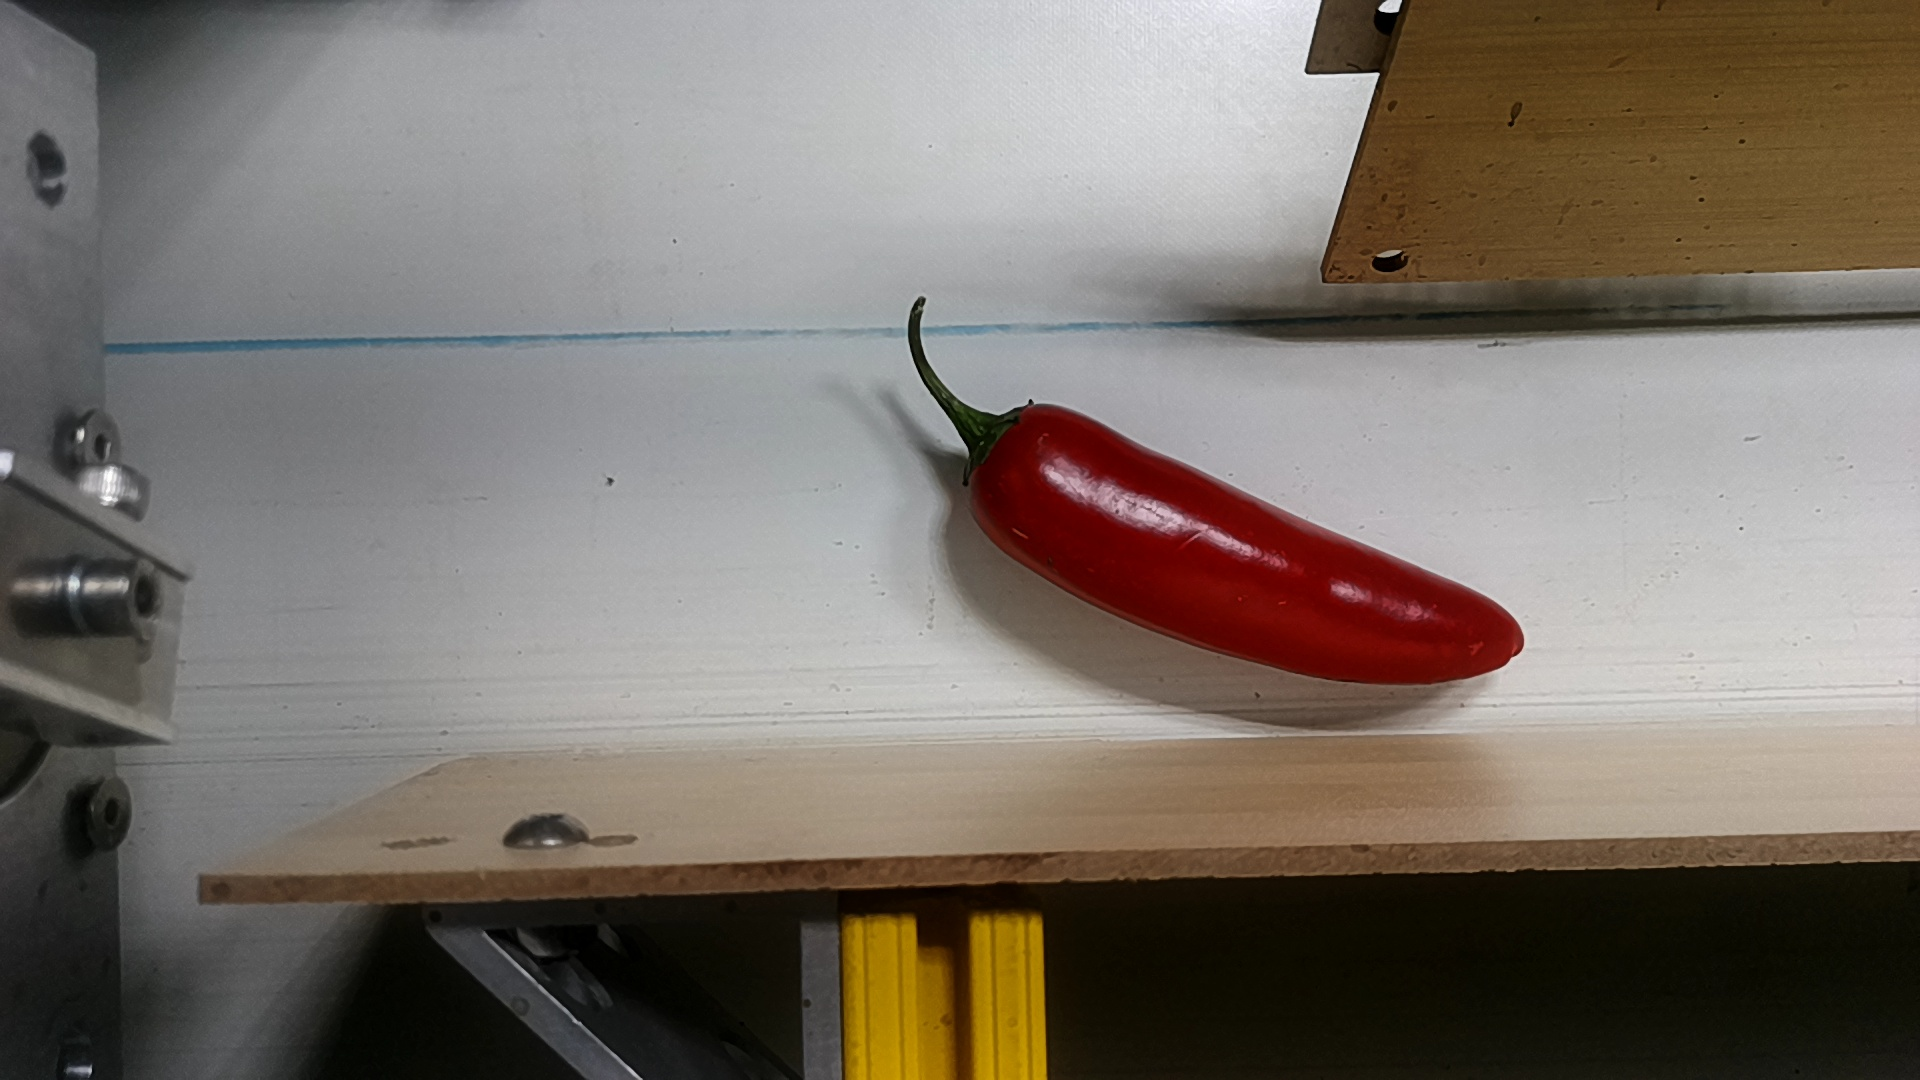Cut Point: (952, 384, 1062, 541)
